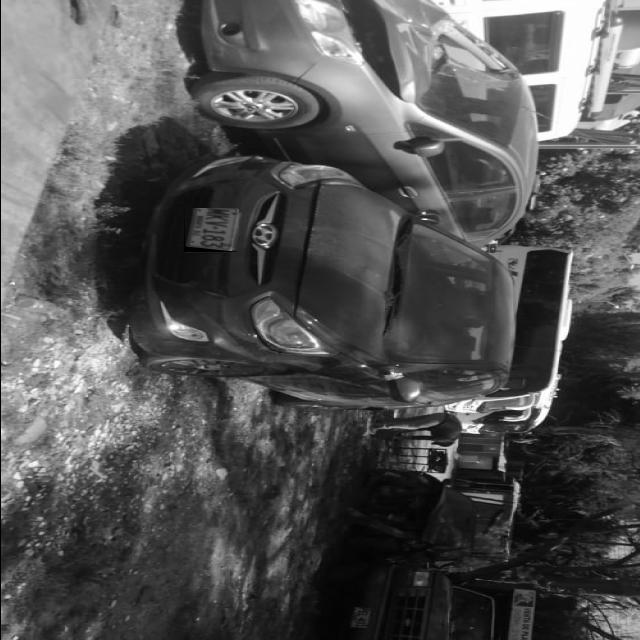plate: (183, 208, 238, 251)
